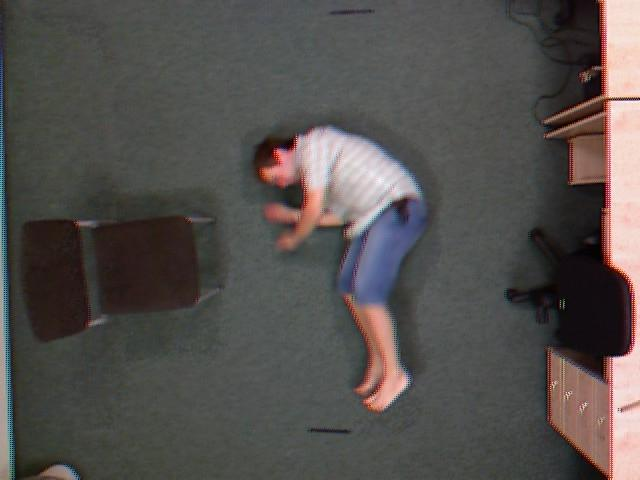fall: (242, 119, 436, 419)
